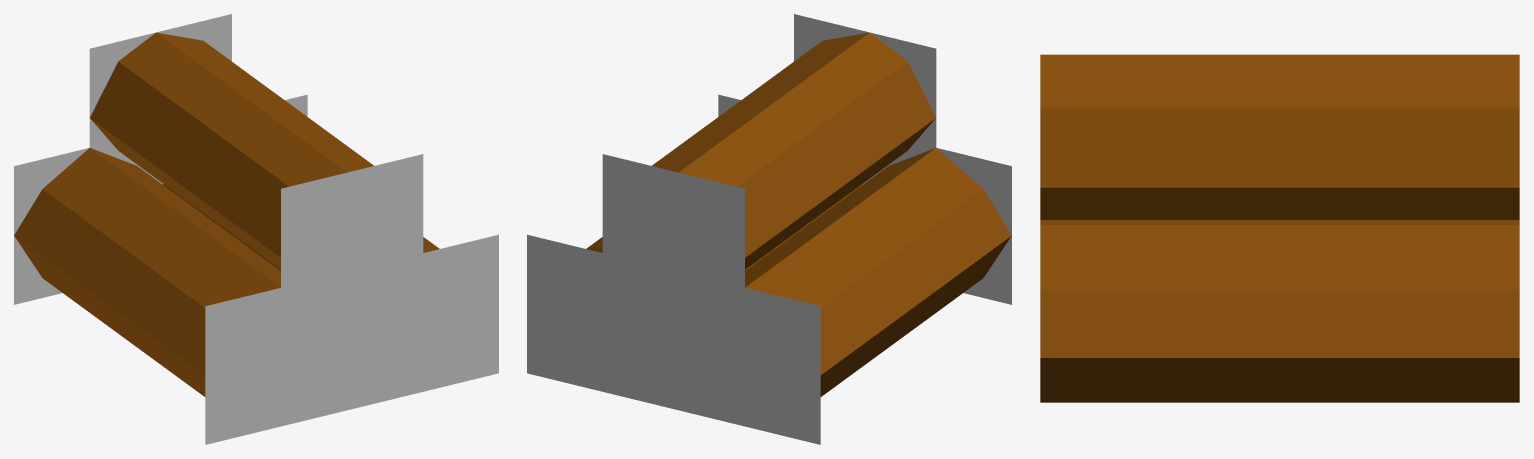
3 renders of one model, left to right at view 1: azimuth 30°, elevation 25°; view 2: azimuth 150°, elevation 25°; view 3: azimuth 270°, elevation 25°, orthographic. The views are drawn at different scales.
Visible parts, largest first — view 1: 2800; view 2: 2800; view 3: 2800.
Part boxes in pixels (x1,y1,x2,y2): 2800: (14,14,498,444); 2800: (527,14,1011,444); 2800: (1040,54,1519,402).
Bounding box in the file's own units: 31 × 24 × 35.
